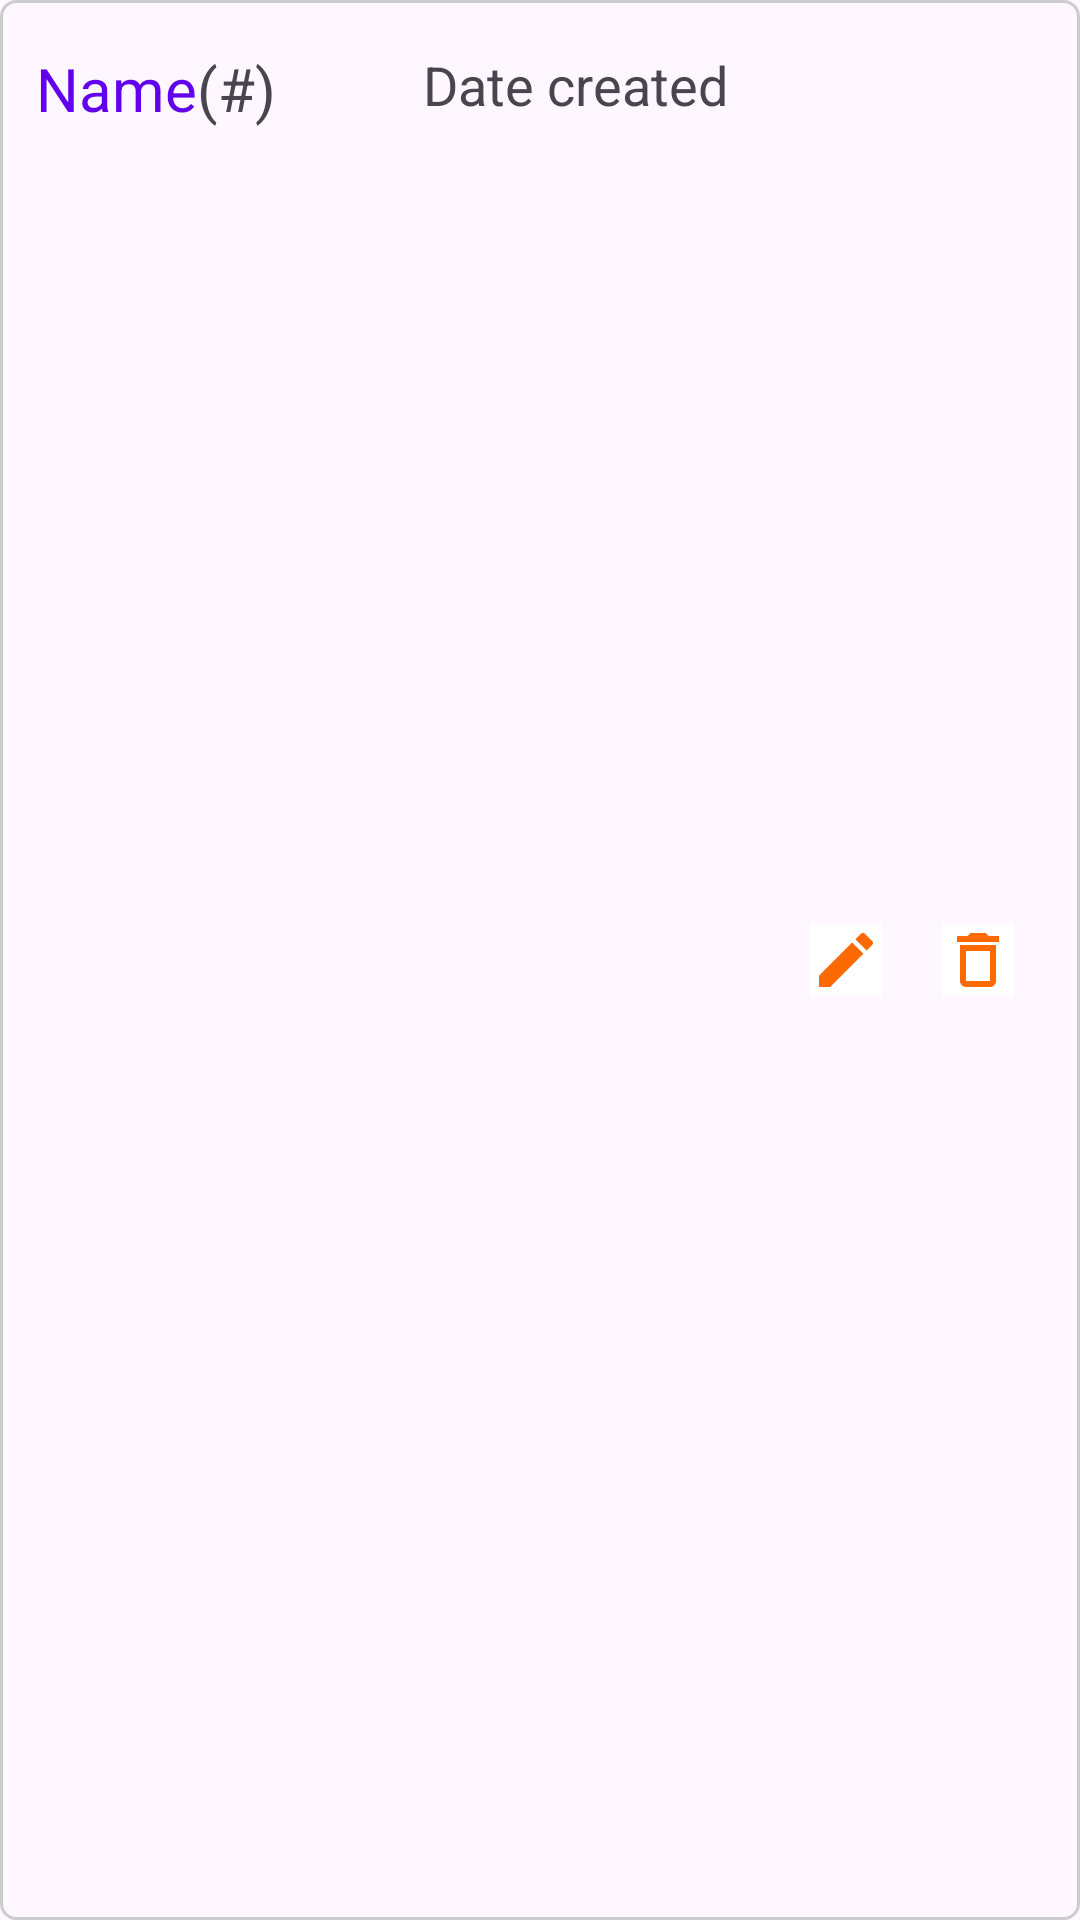

Named icons in this screenshot (1080*1920) and their centers, point (x, y):
Delete this list: point (978, 960)
Rename: point (846, 960)
